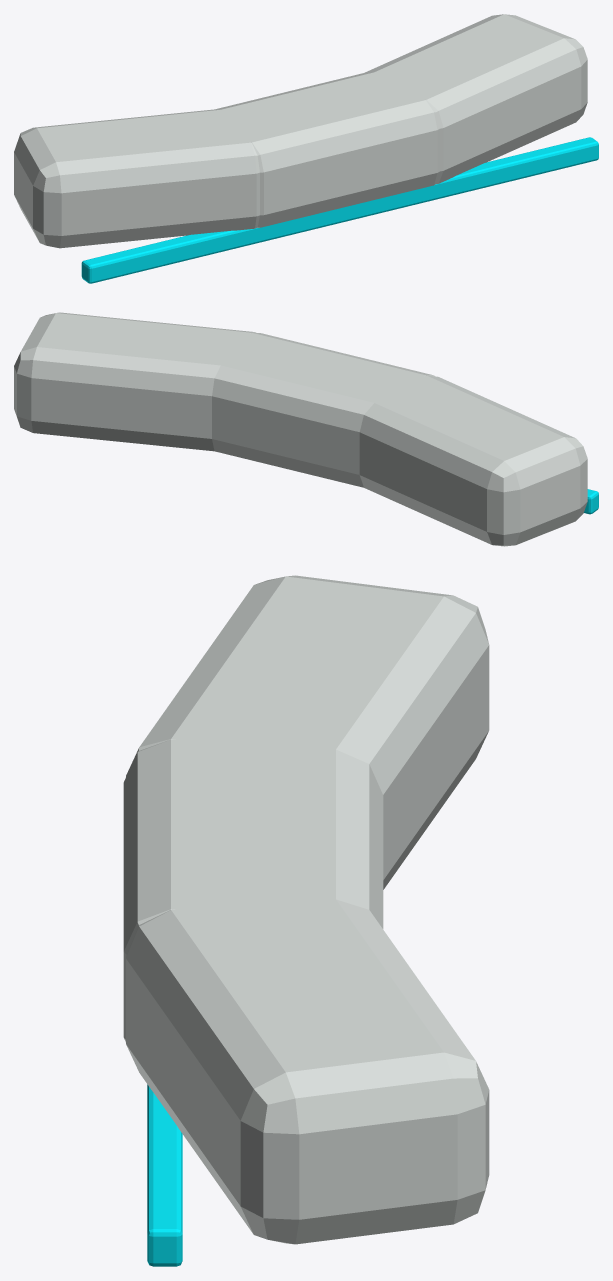
Rendered from LPK_Ceiling_Curve45.fbx.
3 views of the same model, one above another, from view 1: azimuth 30°, elevation 25°; view 2: azimuth 150°, elevation 25°; view 3: azimuth 270°, elevation 25° (orthographic). The views are drawn at different scales.
Visible parts, largest first — view 1: CeilingArc, CeilingArc.001, CeilingArc.002, CeilingLight; view 2: CeilingArc, CeilingArc.002, CeilingArc.001; view 3: CeilingArc.002, CeilingArc, CeilingArc.001, CeilingLight.
Boxes of the visible parts, x1,y1,x2,y2 form: CeilingArc: (14, 108, 259, 248); CeilingArc.001: (211, 72, 439, 227); CeilingArc.002: (364, 14, 587, 184); CeilingLight: (81, 137, 598, 283); CeilingArc: (359, 375, 587, 546); CeilingArc.002: (14, 312, 256, 451); CeilingArc.001: (211, 333, 435, 487); CeilingArc.002: (126, 892, 489, 1244); CeilingArc: (126, 575, 489, 889); CeilingArc.001: (123, 739, 383, 1041); CeilingLight: (147, 1084, 182, 1266).
Size of the model in its own units: 2.14 by 0.365 by 0.6199.
